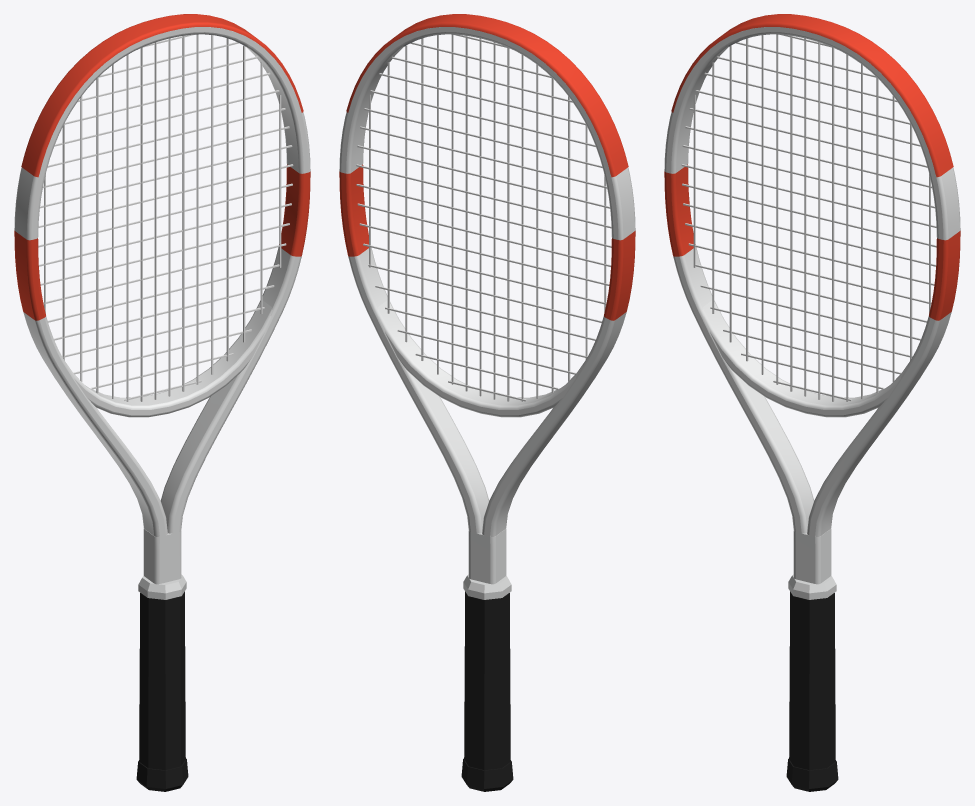
File: babolat-pure-strike-evo.glb
3 renders of one model, left to right at view 1: azimuth 30°, elevation 25°; view 2: azimuth 150°, elevation 25°; view 3: azimuth 330°, elevation 25°, orthographic.
Parts seen in each view (by area): view 1: frame, strings_mains, strings_crosses, grip, bumper, butt_cap, collar; view 2: frame, strings_mains, strings_crosses, grip, bumper, butt_cap, collar; view 3: frame, strings_mains, strings_crosses, grip, bumper, butt_cap, collar.
Part boxes in pixels (box(x1,y1,x2,y2)): frame: box(14, 27, 310, 584); strings_mains: box(44, 34, 281, 401); strings_crosses: box(38, 34, 293, 400); grip: box(139, 591, 185, 770); bumper: box(21, 14, 303, 177); butt_cap: box(136, 758, 188, 791); collar: box(138, 574, 186, 599); frame: box(339, 27, 635, 584); strings_mains: box(369, 34, 606, 401); strings_crosses: box(356, 34, 611, 401); grip: box(464, 591, 510, 770); bumper: box(346, 14, 628, 177); butt_cap: box(461, 758, 513, 791); collar: box(463, 574, 511, 599); frame: box(664, 27, 960, 584); strings_mains: box(693, 34, 930, 401); strings_crosses: box(681, 34, 936, 400); grip: box(789, 591, 835, 770); bumper: box(671, 14, 953, 177); butt_cap: box(786, 758, 838, 791); collar: box(788, 574, 836, 599).
Bounding box in the file's own units: 0.2683 × 0.6861 × 0.0396.
